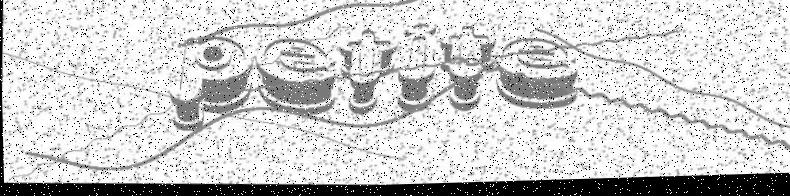e: (255, 38, 338, 120), (494, 39, 581, 114)
i: (396, 24, 438, 114)
p: (166, 36, 253, 134)
t: (337, 29, 397, 117), (438, 28, 497, 116)
